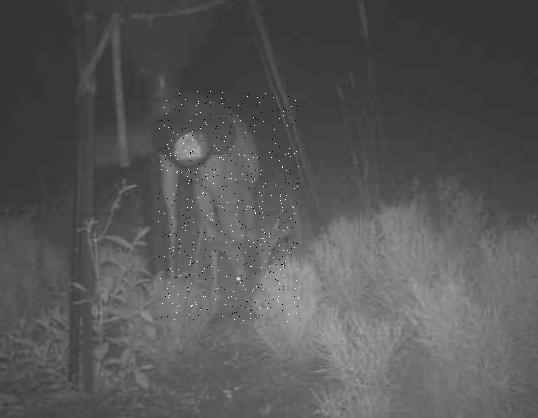Deer: (157, 92, 298, 323)
